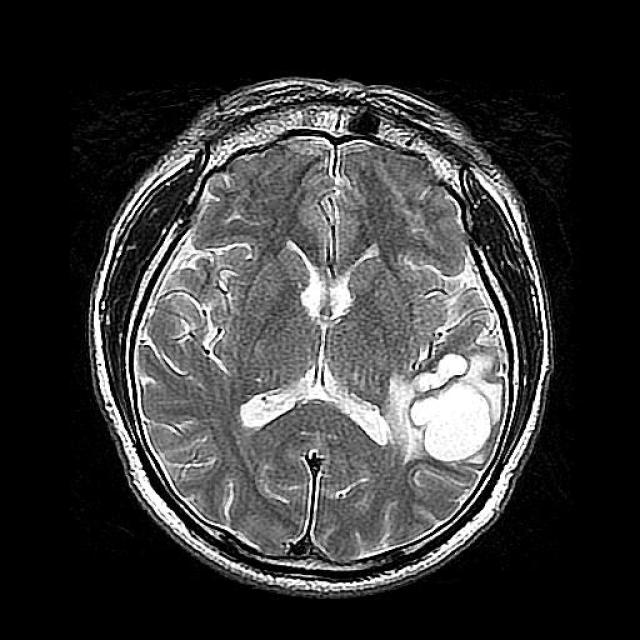Tumor-Cell: (390, 328, 508, 462)
